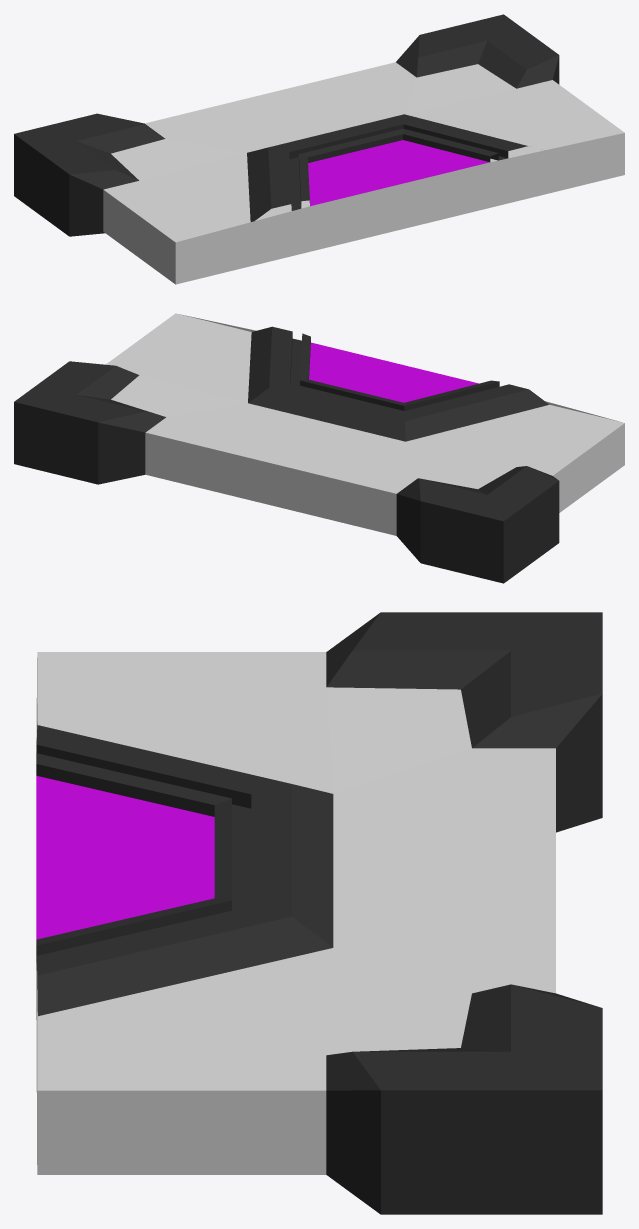
The model's file is Half Base trap.fbx.
The picture shows the model from 3 angles, top to bottom: view 1: azimuth 30°, elevation 25°; view 2: azimuth 150°, elevation 25°; view 3: azimuth 270°, elevation 25°; orthographic projection. The views are drawn at different scales.
Parts seen in each view (by area): view 1: pCube1; view 2: pCube1; view 3: pCube1.
Part boxes in pixels (x1,y1,x2,y2): pCube1: (14, 14, 624, 284); pCube1: (14, 313, 624, 583); pCube1: (36, 612, 602, 1214).
Bounding box in the file's own units: 2.18 × 0.2676 × 1.09.
